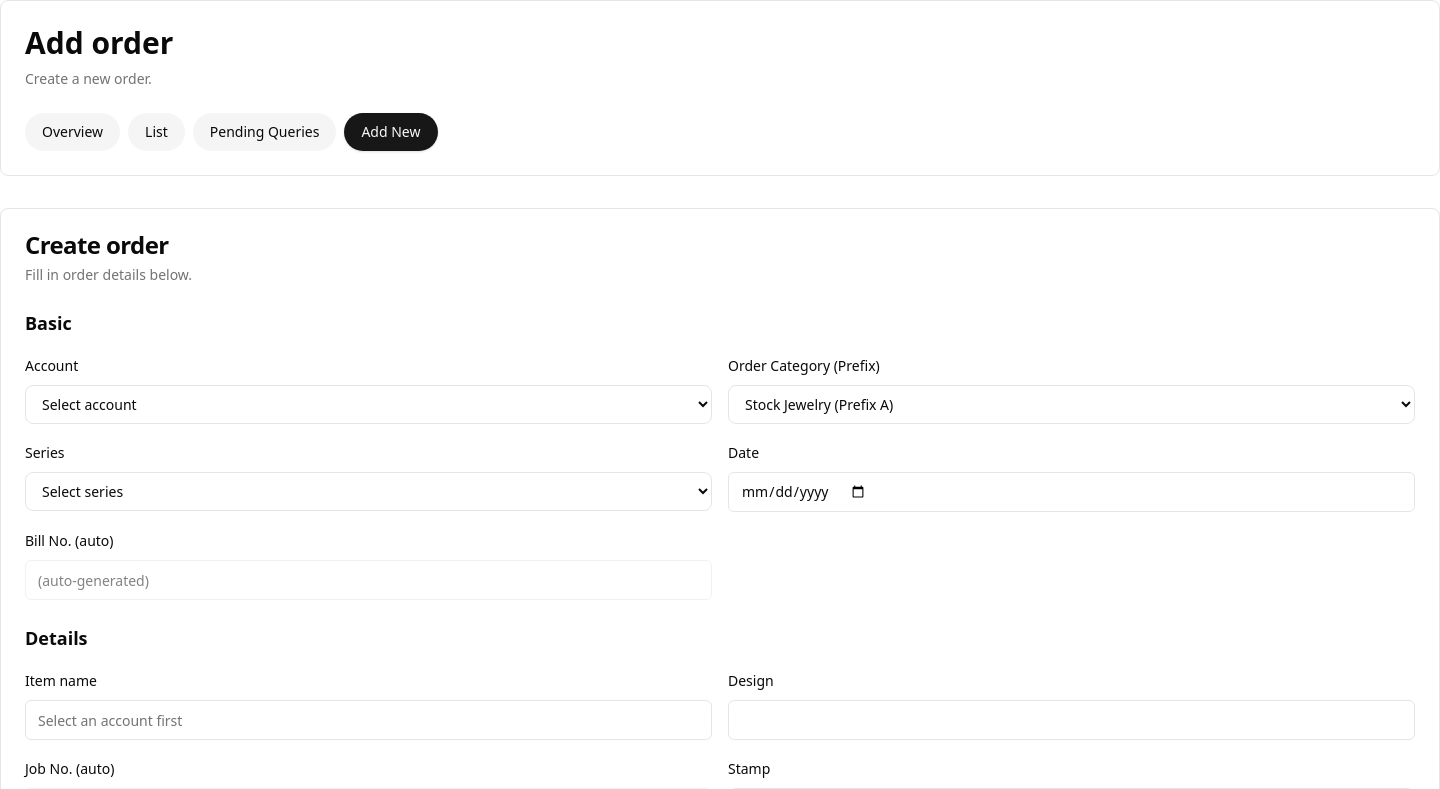
Test: VoucherForm › Auto-fill Item Name › auto-fills item name from sub-account when account is selected
Select "Account 1" in the dropdown labelled "Account" at (368, 404), box [25,385,712,424]
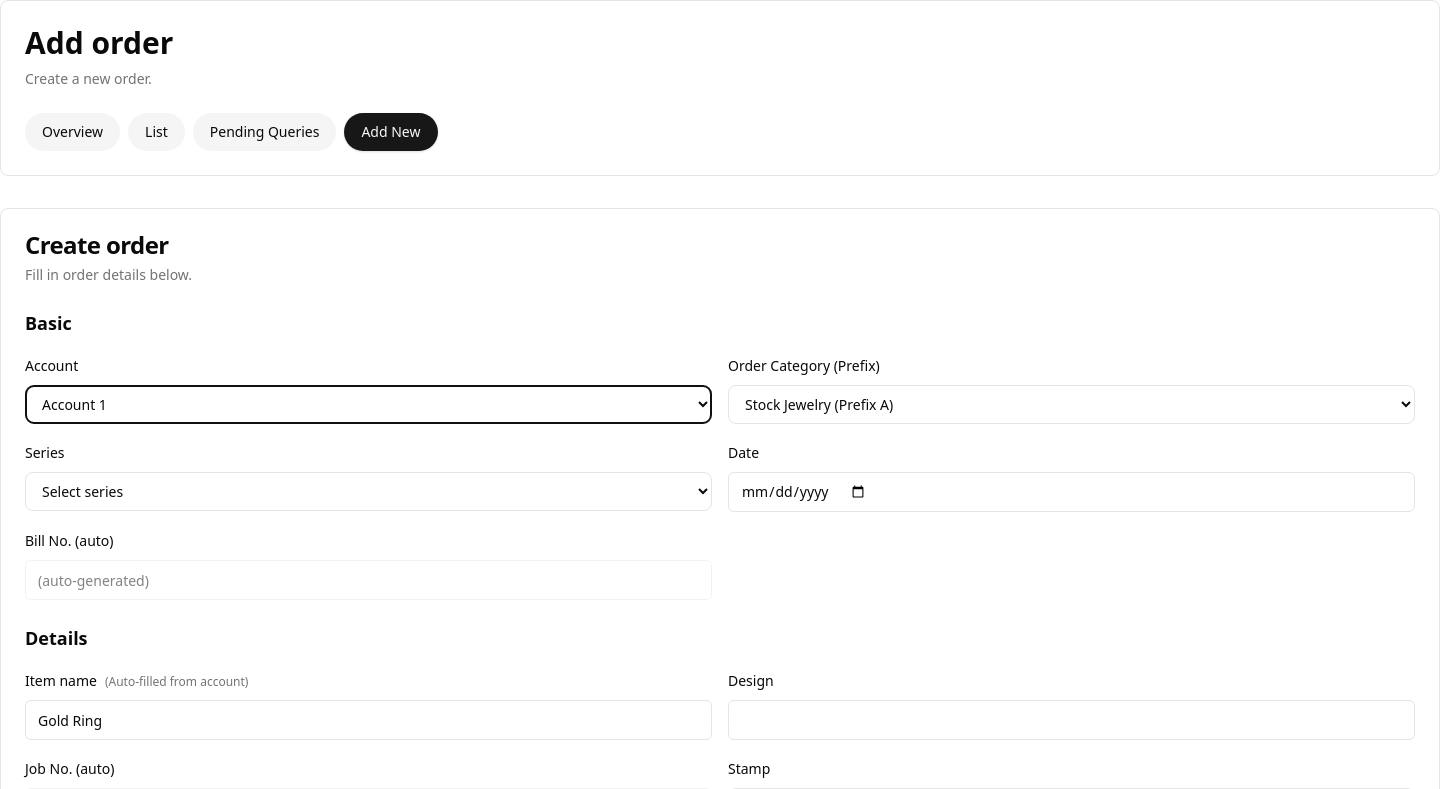
Expected: the field labelled "Item name(Auto-filled from account)" holds "Gold Ring", [25,700,712,740]
